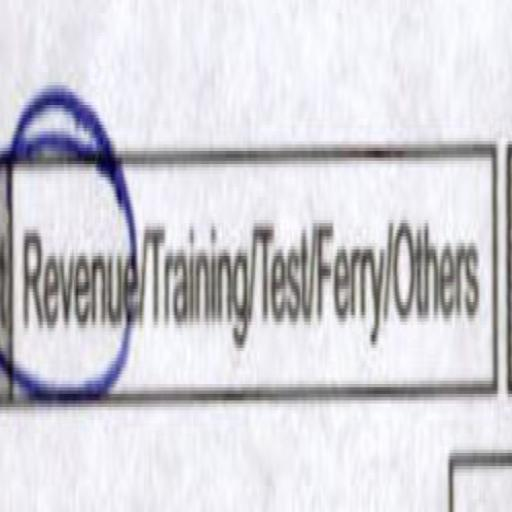check: (11, 74, 137, 428)
